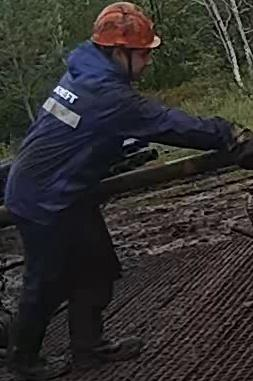gloves: (205, 123, 253, 168)
helmet: (89, 1, 161, 49)
vest: (2, 40, 134, 224)
